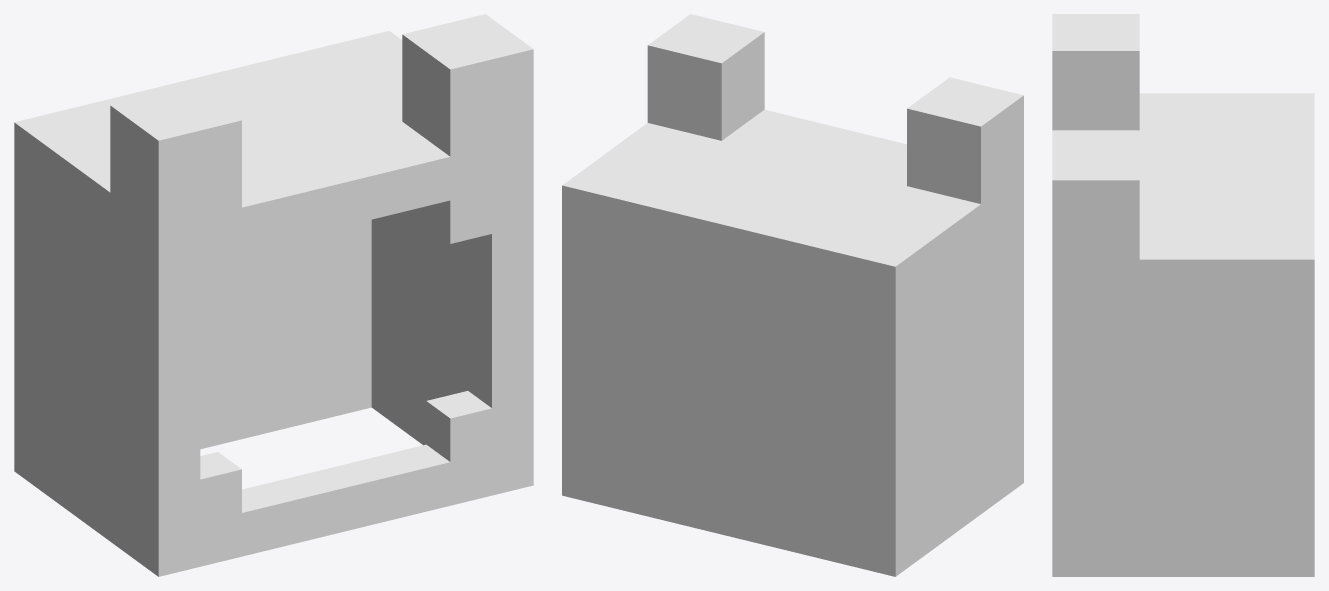
File: humanoid-54.obj
The picture shows the model from 3 angles, left to right: view 1: azimuth 30°, elevation 25°; view 2: azimuth 150°, elevation 25°; view 3: azimuth 270°, elevation 25°; orthographic projection. The views are drawn at different scales.
Visible parts, largest first — view 1: humanoid-54; view 2: humanoid-54; view 3: humanoid-54.
Boxes of the visible parts, x1=… form: humanoid-54: x1=14, y1=14, x2=533, y2=576; humanoid-54: x1=562, y1=14, x2=1023, y2=576; humanoid-54: x1=1052, y1=14, x2=1314, y2=576.
Size of the model in its own units: 36 by 40 by 24.
1 material, 1 textured.
